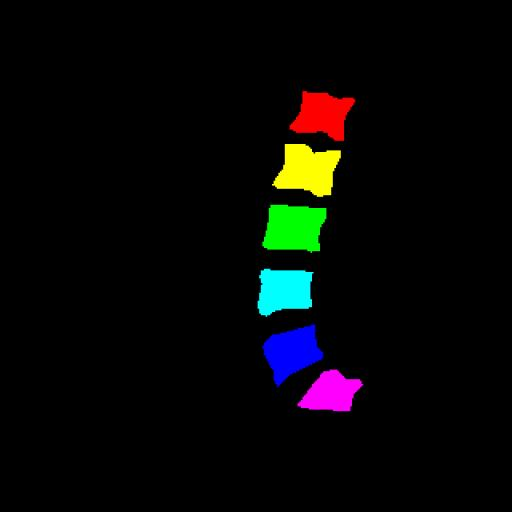L1: (290, 91, 355, 141)
L2: (273, 144, 341, 197)
L3: (262, 205, 326, 252)
L4: (258, 269, 313, 316)
L5: (263, 325, 323, 386)
S1: (298, 370, 363, 410)
